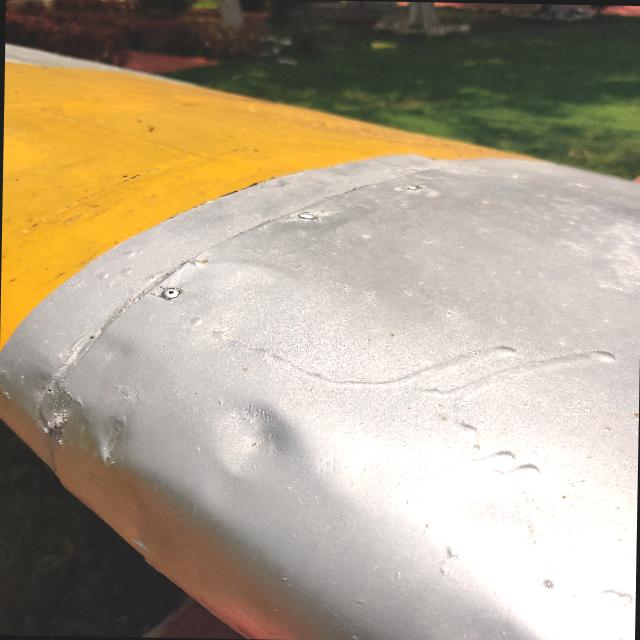dent: (180, 369, 330, 513), (72, 396, 150, 480)
